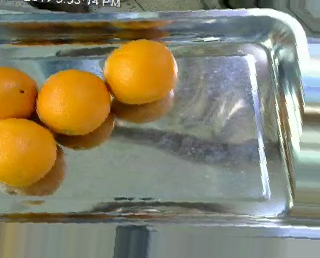Orange: (35, 69, 111, 137), (104, 39, 178, 105), (1, 117, 57, 187)
